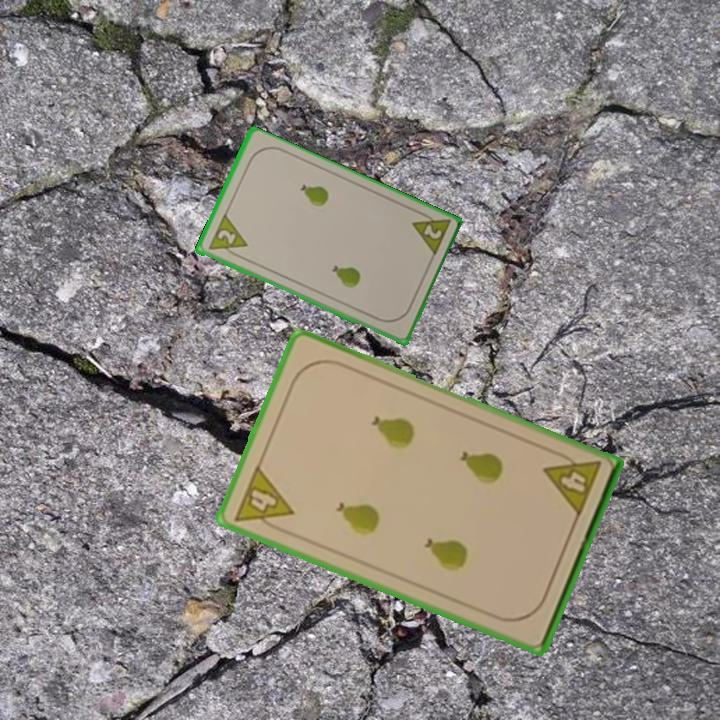2p: (408, 206, 453, 260), (204, 211, 250, 262)
4p: (230, 461, 297, 537), (540, 446, 604, 520)
